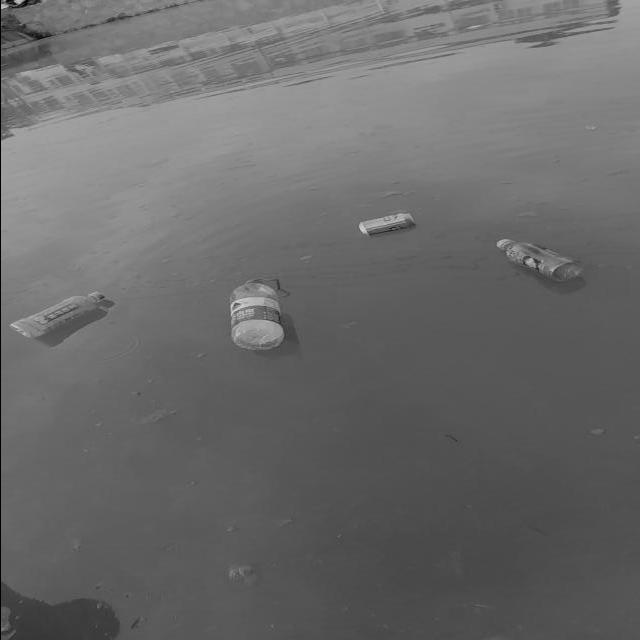bottle: (10, 276, 142, 366), (214, 268, 304, 361), (493, 233, 595, 290)
